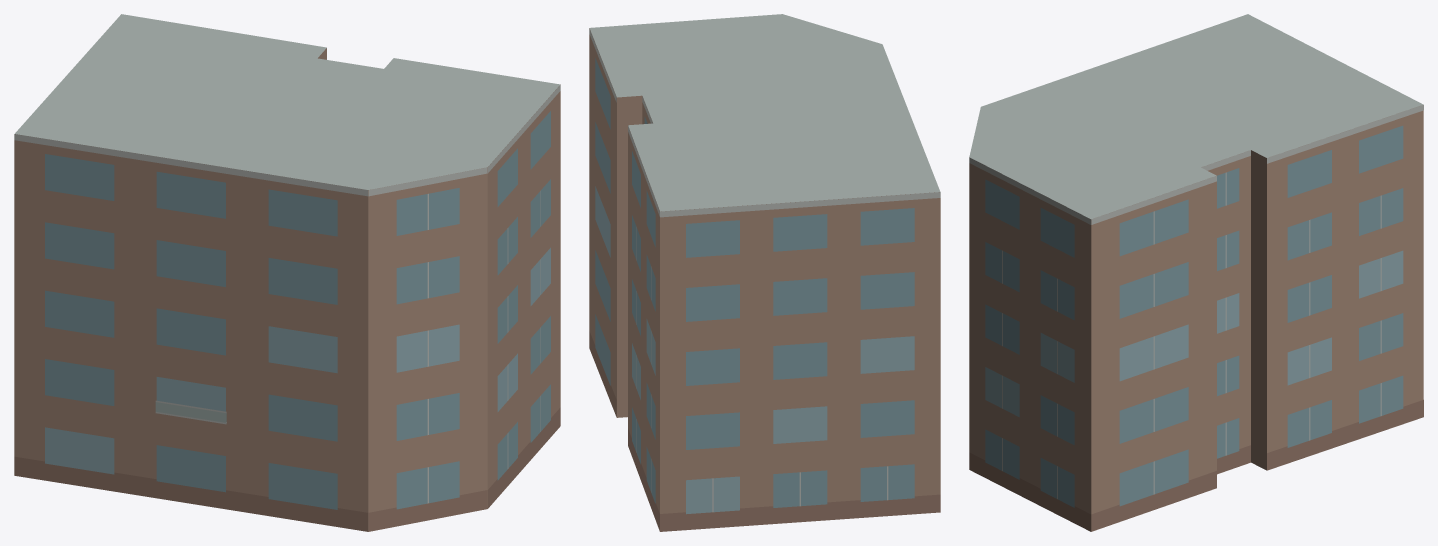
The model's file is survey-upis-32850286.glb.
The picture shows the model from 3 angles, left to right: view 1: azimuth 30°, elevation 25°; view 2: azimuth 150°, elevation 25°; view 3: azimuth 270°, elevation 25°; orthographic projection. The views are drawn at different scales.
Visible parts, largest first — view 1: survey-upis-32850286.tmp; view 2: survey-upis-32850286.tmp; view 3: survey-upis-32850286.tmp.
Part boxes in pixels (x1,y1,x2,y2): survey-upis-32850286.tmp: (14, 14, 560, 531); survey-upis-32850286.tmp: (589, 14, 940, 531); survey-upis-32850286.tmp: (969, 14, 1423, 531).
Bounding box in the file's own units: 18.61 × 13.2 × 17.41.
